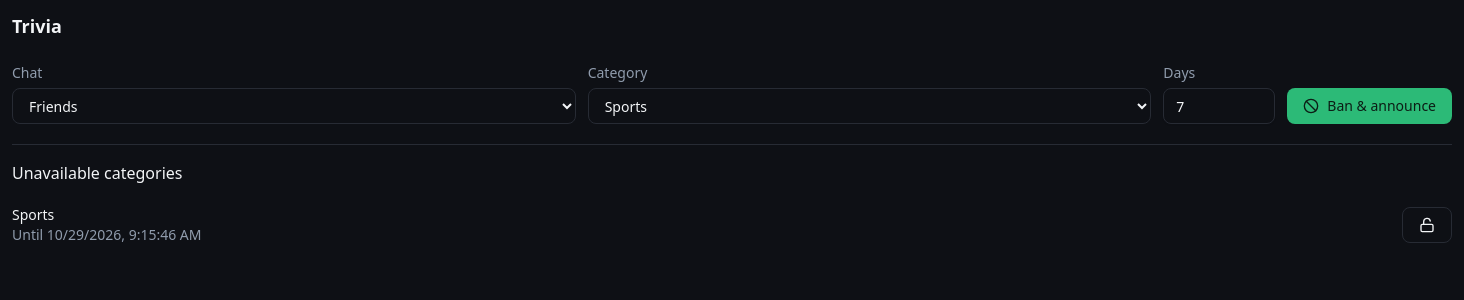
Test: TriviaSettings › bans a category for a selected duration and confirms the queued announcement
Select "History" in the dropdown labelled "Category": (870, 106) [588,88,1151,124]
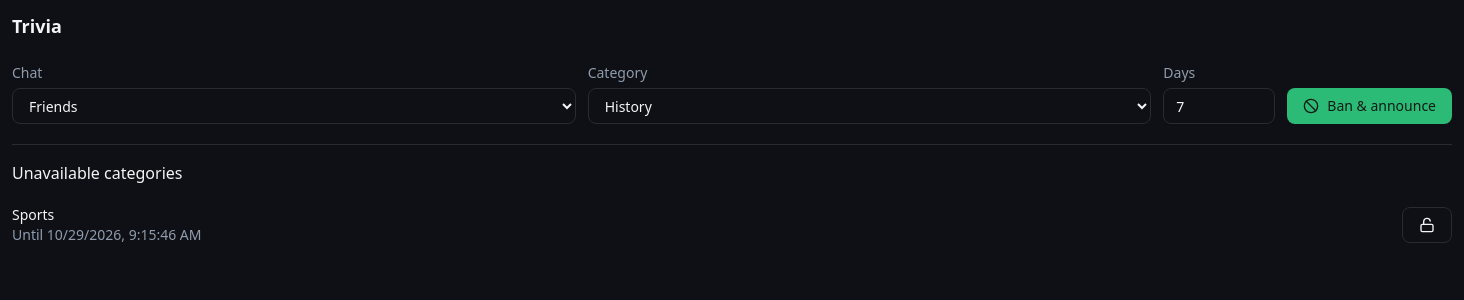
Replace the text in the number field labelled "Days" with "3": (1219, 106) [1163,88,1275,124]
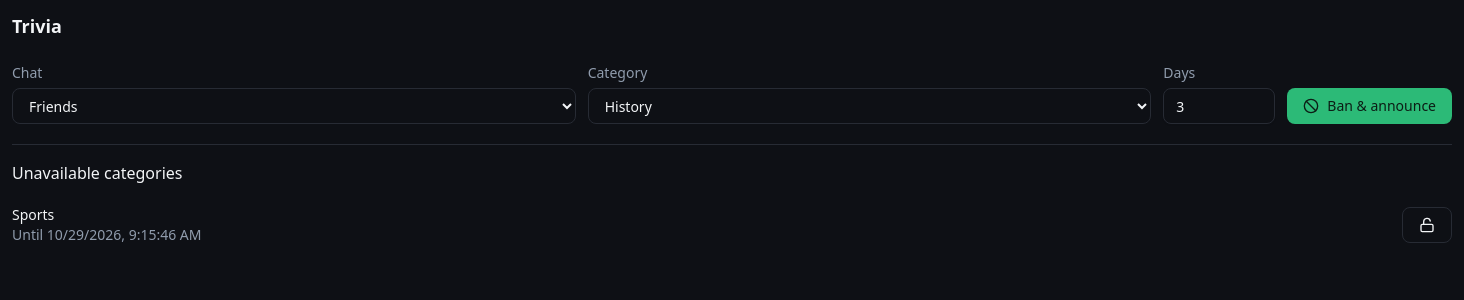
Click the button "Ban & announce": (1370, 106) [1287,88,1452,124]
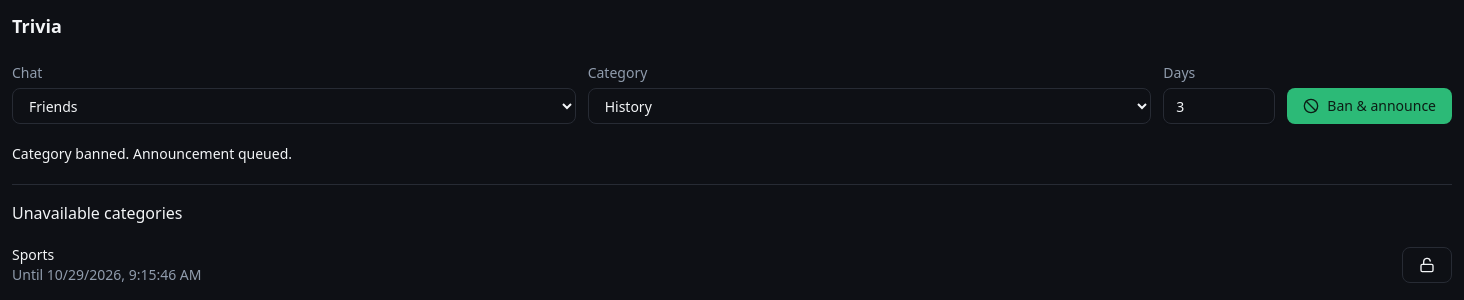
Expected: the text "Category banned. Announcement queued." is shown, [12,144,292,163]
